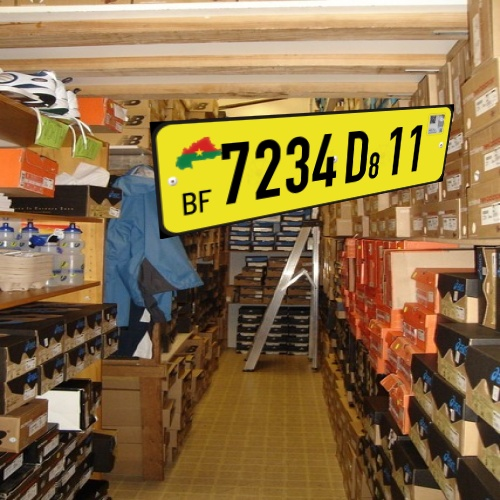plate: (142, 90, 475, 254)
